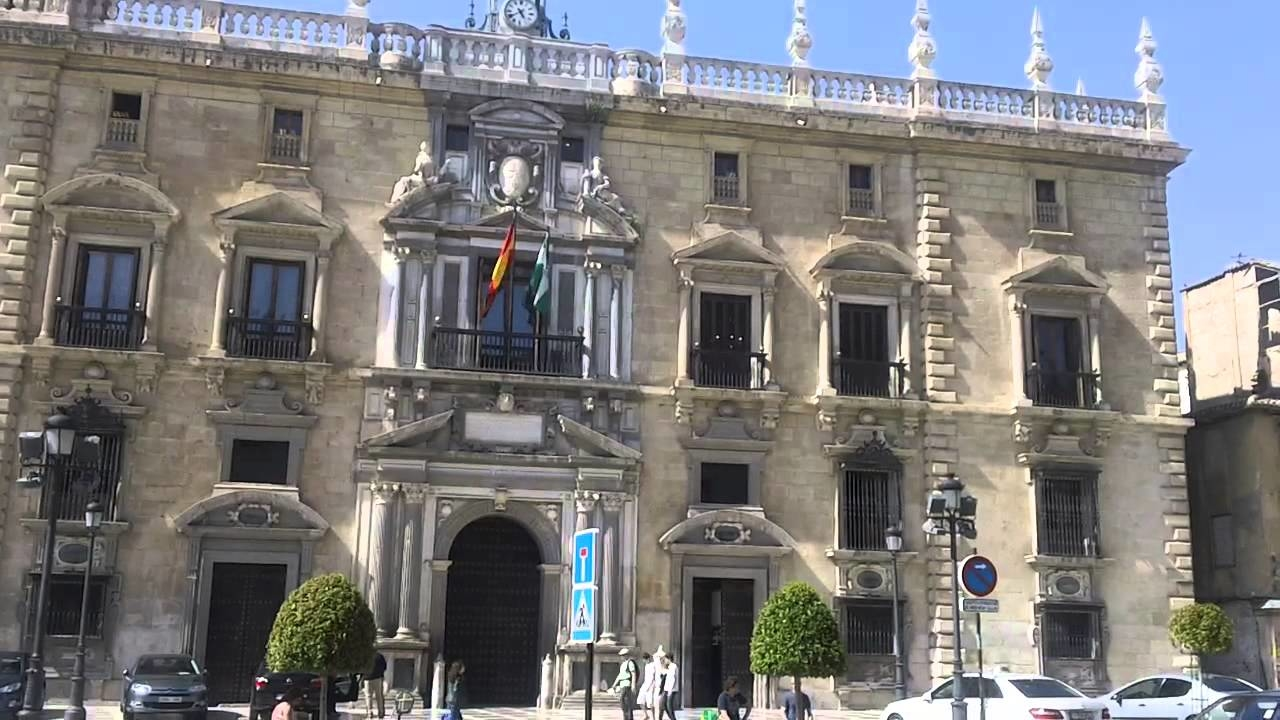arco-medio-punto: (427, 497, 564, 578)
fronton: (207, 189, 348, 241), (668, 228, 790, 278), (1003, 255, 1116, 300), (464, 204, 568, 241)
fronton-curvo: (169, 486, 334, 546), (36, 171, 186, 232), (655, 506, 801, 563), (807, 237, 930, 288), (466, 94, 570, 133)
fronton-partido: (375, 177, 642, 250), (354, 405, 646, 469)
vano-adintelado: (183, 543, 309, 707), (39, 227, 170, 361), (209, 241, 334, 370), (668, 562, 775, 712), (672, 275, 780, 405), (812, 288, 920, 413), (1004, 300, 1107, 420)
